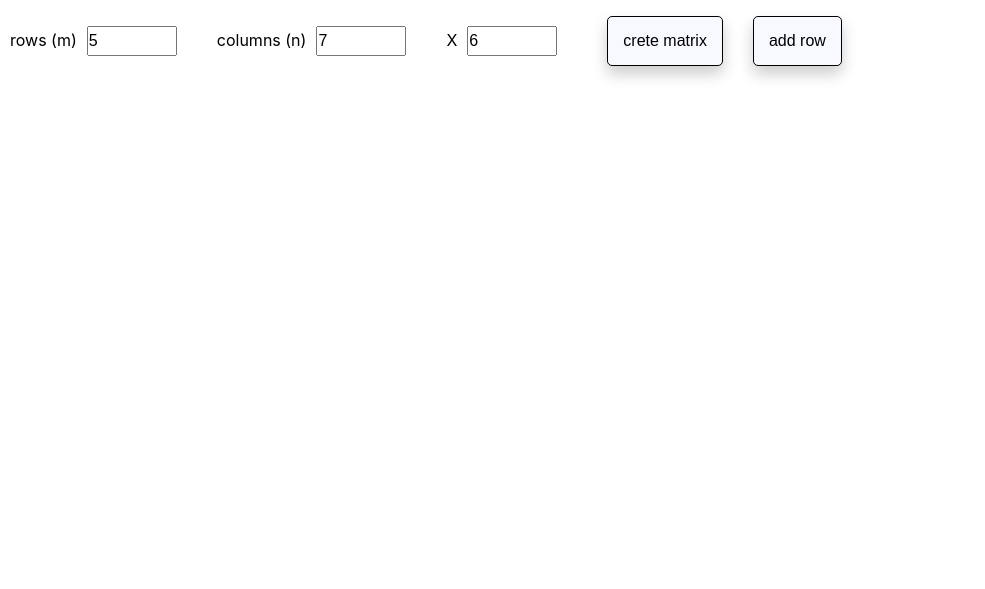
Test case: Context › renders table with 6 rows after creating matrix with default input values
This screenshot has width=985, height=589.
What coordinates should you click on to do the following:
click the button "crete matrix"
I would click on:
 (665, 41)
Its box is [607,16,723,66].
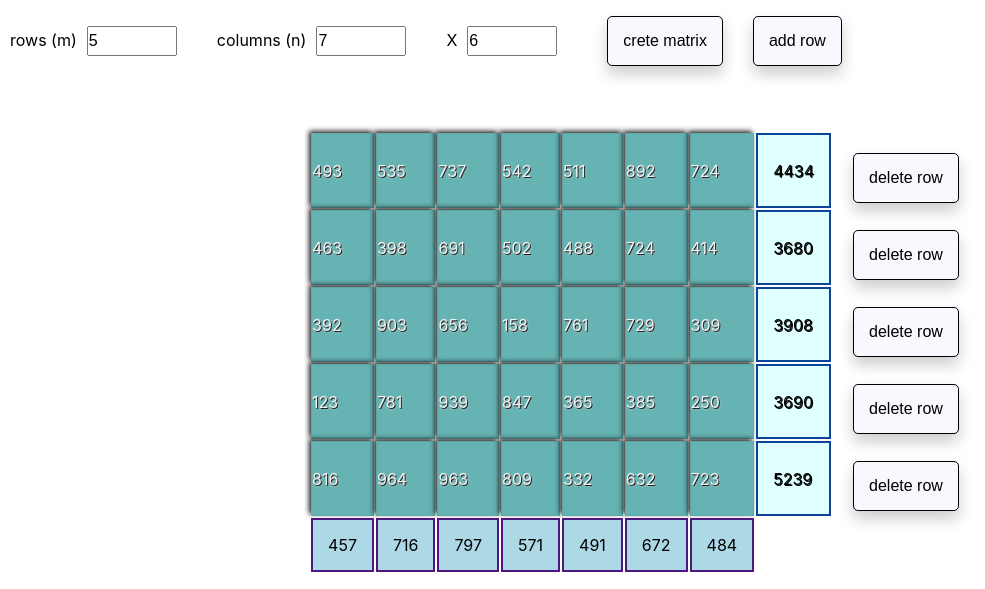
Check: the number of rows is 6, box [311,133,969,208]; [311,210,969,285]; [311,287,969,362]; [311,364,969,439]; [311,441,969,516]; [311,518,969,572]
